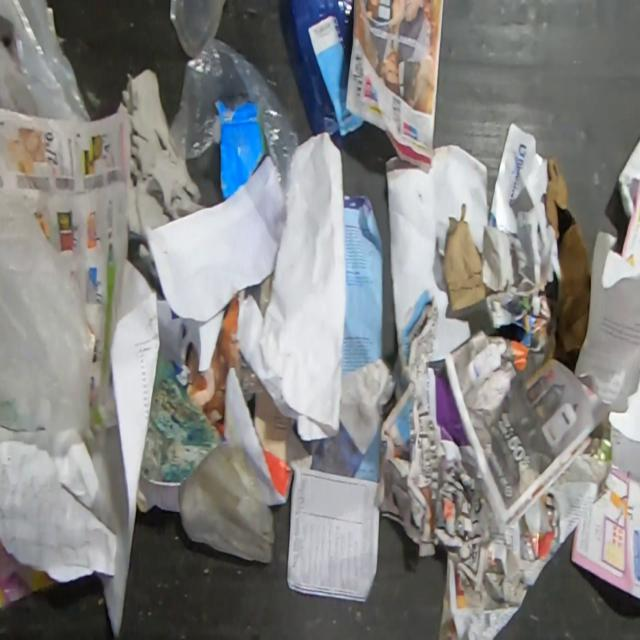cardboard: (114, 66, 205, 246), (543, 155, 591, 368), (214, 98, 268, 200), (441, 216, 495, 312)
rigid_plastic: (288, 0, 365, 138), (169, 0, 227, 59)
soft_plastic: (0, 188, 93, 436), (170, 38, 300, 188), (178, 441, 276, 564), (186, 291, 264, 436), (0, 0, 92, 121)
